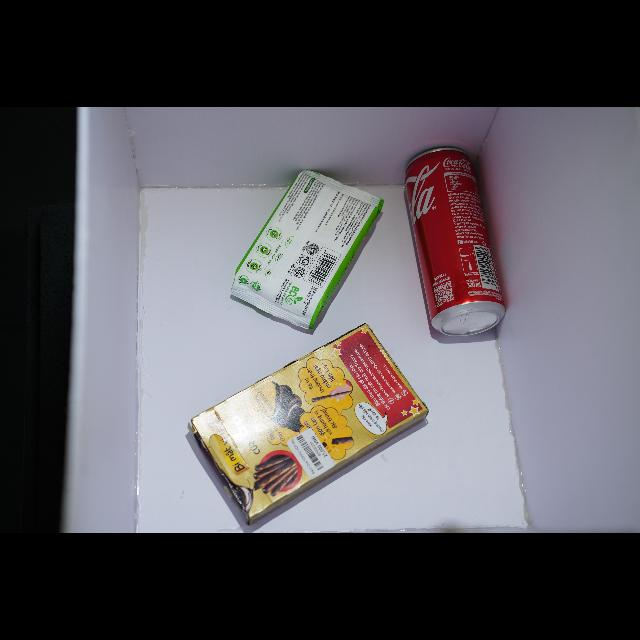banh_toppo_socola: (191, 324, 428, 523)
coca_cola: (405, 147, 505, 336)
khan_giay: (231, 171, 385, 329)
